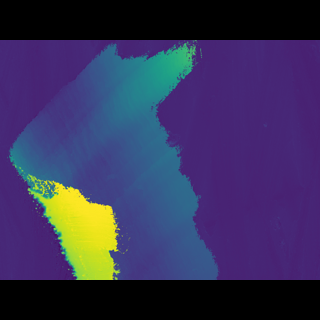Loch: (2, 69, 228, 250)
